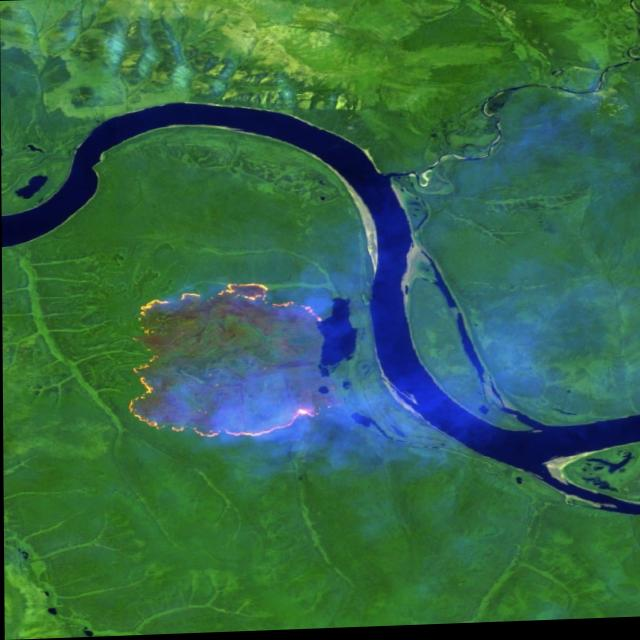fire: (118, 277, 330, 449)
